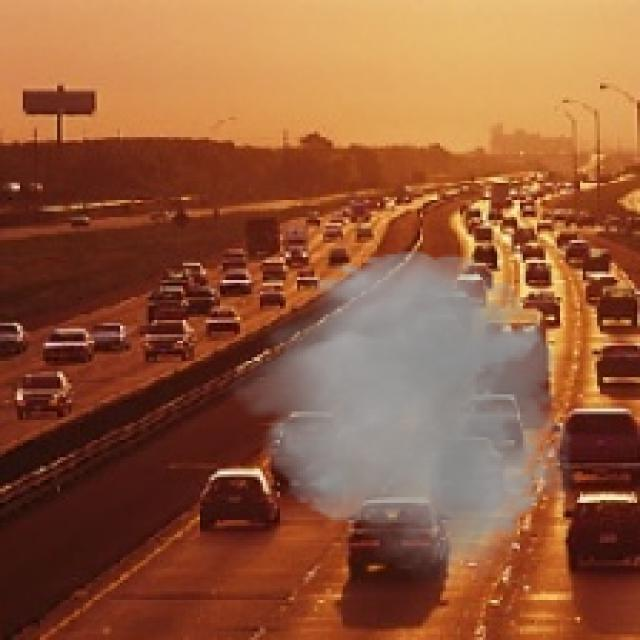Smoke: (220, 243, 589, 592)
